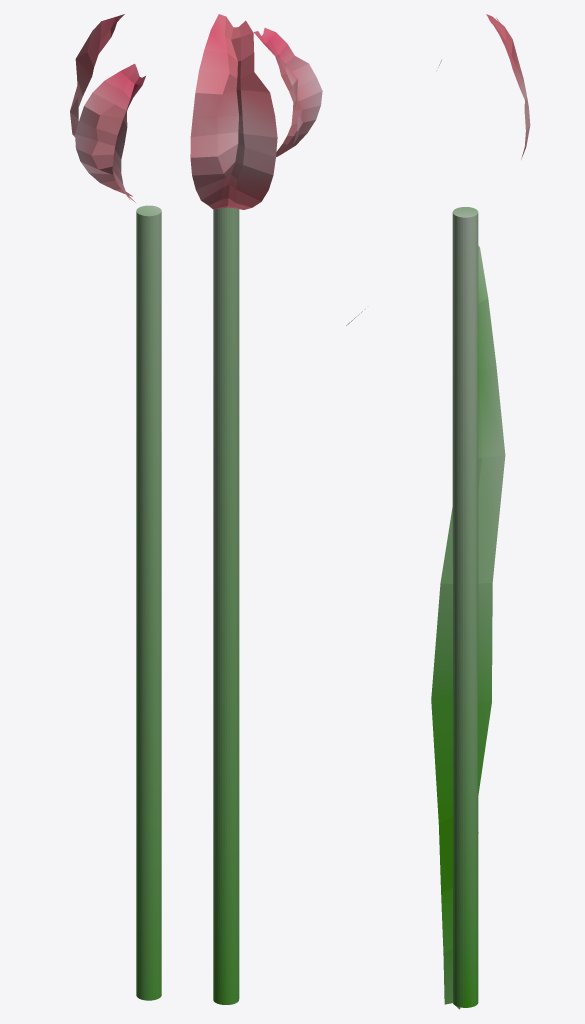
File: Цветок.gltf
3 views of the same model, side by side, from view 1: azimuth 30°, elevation 25°; view 2: azimuth 150°, elevation 25°; view 3: azimuth 270°, elevation 25° (orthographic). The views are drawn at different scales.
Visible parts, largest first — view 1: Cylinder, Sphere.004, Sphere; view 2: Cylinder, Sphere, Sphere.004; view 3: Cylinder, Sphere.002, Sphere.
Boxes of the visible parts, <box> form: Cylinder: <box>136,205,161,1000</box>; Sphere.004: <box>75,63,145,202</box>; Sphere: <box>70,14,124,137</box>; Cylinder: <box>213,207,239,1004</box>; Sphere: <box>190,14,277,209</box>; Sphere.004: <box>254,28,322,156</box>; Cylinder: <box>452,207,478,1007</box>; Sphere.002: <box>431,245,505,1009</box>; Sphere: <box>486,14,530,159</box>.
Size of the model in its own units: 1.51 by 9.54 by 1.5.
